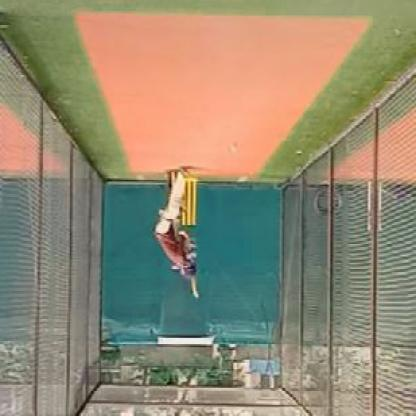ball: (226, 139, 240, 155)
